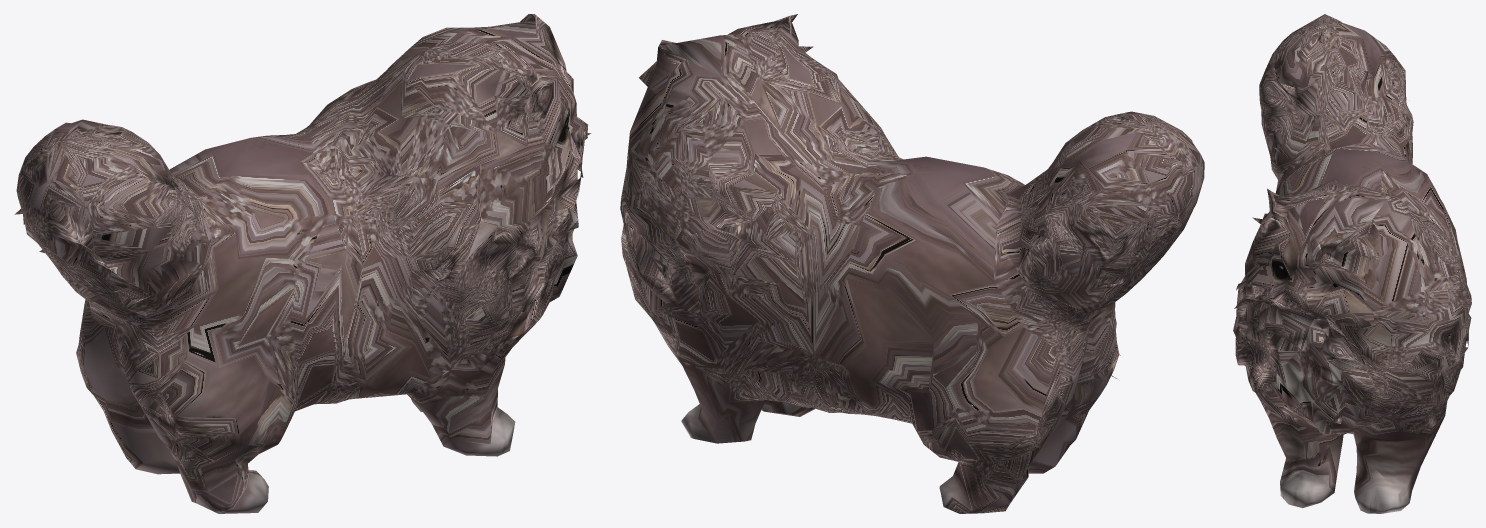
File: PARLORPUFF-lo.glb
3 views of the same model, side by side, from view 1: azimuth 30°, elevation 25°; view 2: azimuth 150°, elevation 25°; view 3: azimuth 270°, elevation 25° (orthographic). The views are drawn at different scales.
Visible parts, largest first — view 1: tripo_node_56623733-8cad-4e8b-b919-3130d9aeaed9; view 2: tripo_node_56623733-8cad-4e8b-b919-3130d9aeaed9; view 3: tripo_node_56623733-8cad-4e8b-b919-3130d9aeaed9.
Part boxes in pixels (x1,y1,x2,y2): tripo_node_56623733-8cad-4e8b-b919-3130d9aeaed9: (14, 14, 591, 513); tripo_node_56623733-8cad-4e8b-b919-3130d9aeaed9: (620, 14, 1204, 513); tripo_node_56623733-8cad-4e8b-b919-3130d9aeaed9: (1233, 14, 1471, 513).
Bounding box in the file's own units: 1.49 × 0.9928 × 0.6683.
Materials: 1 (1 with a texture image).
